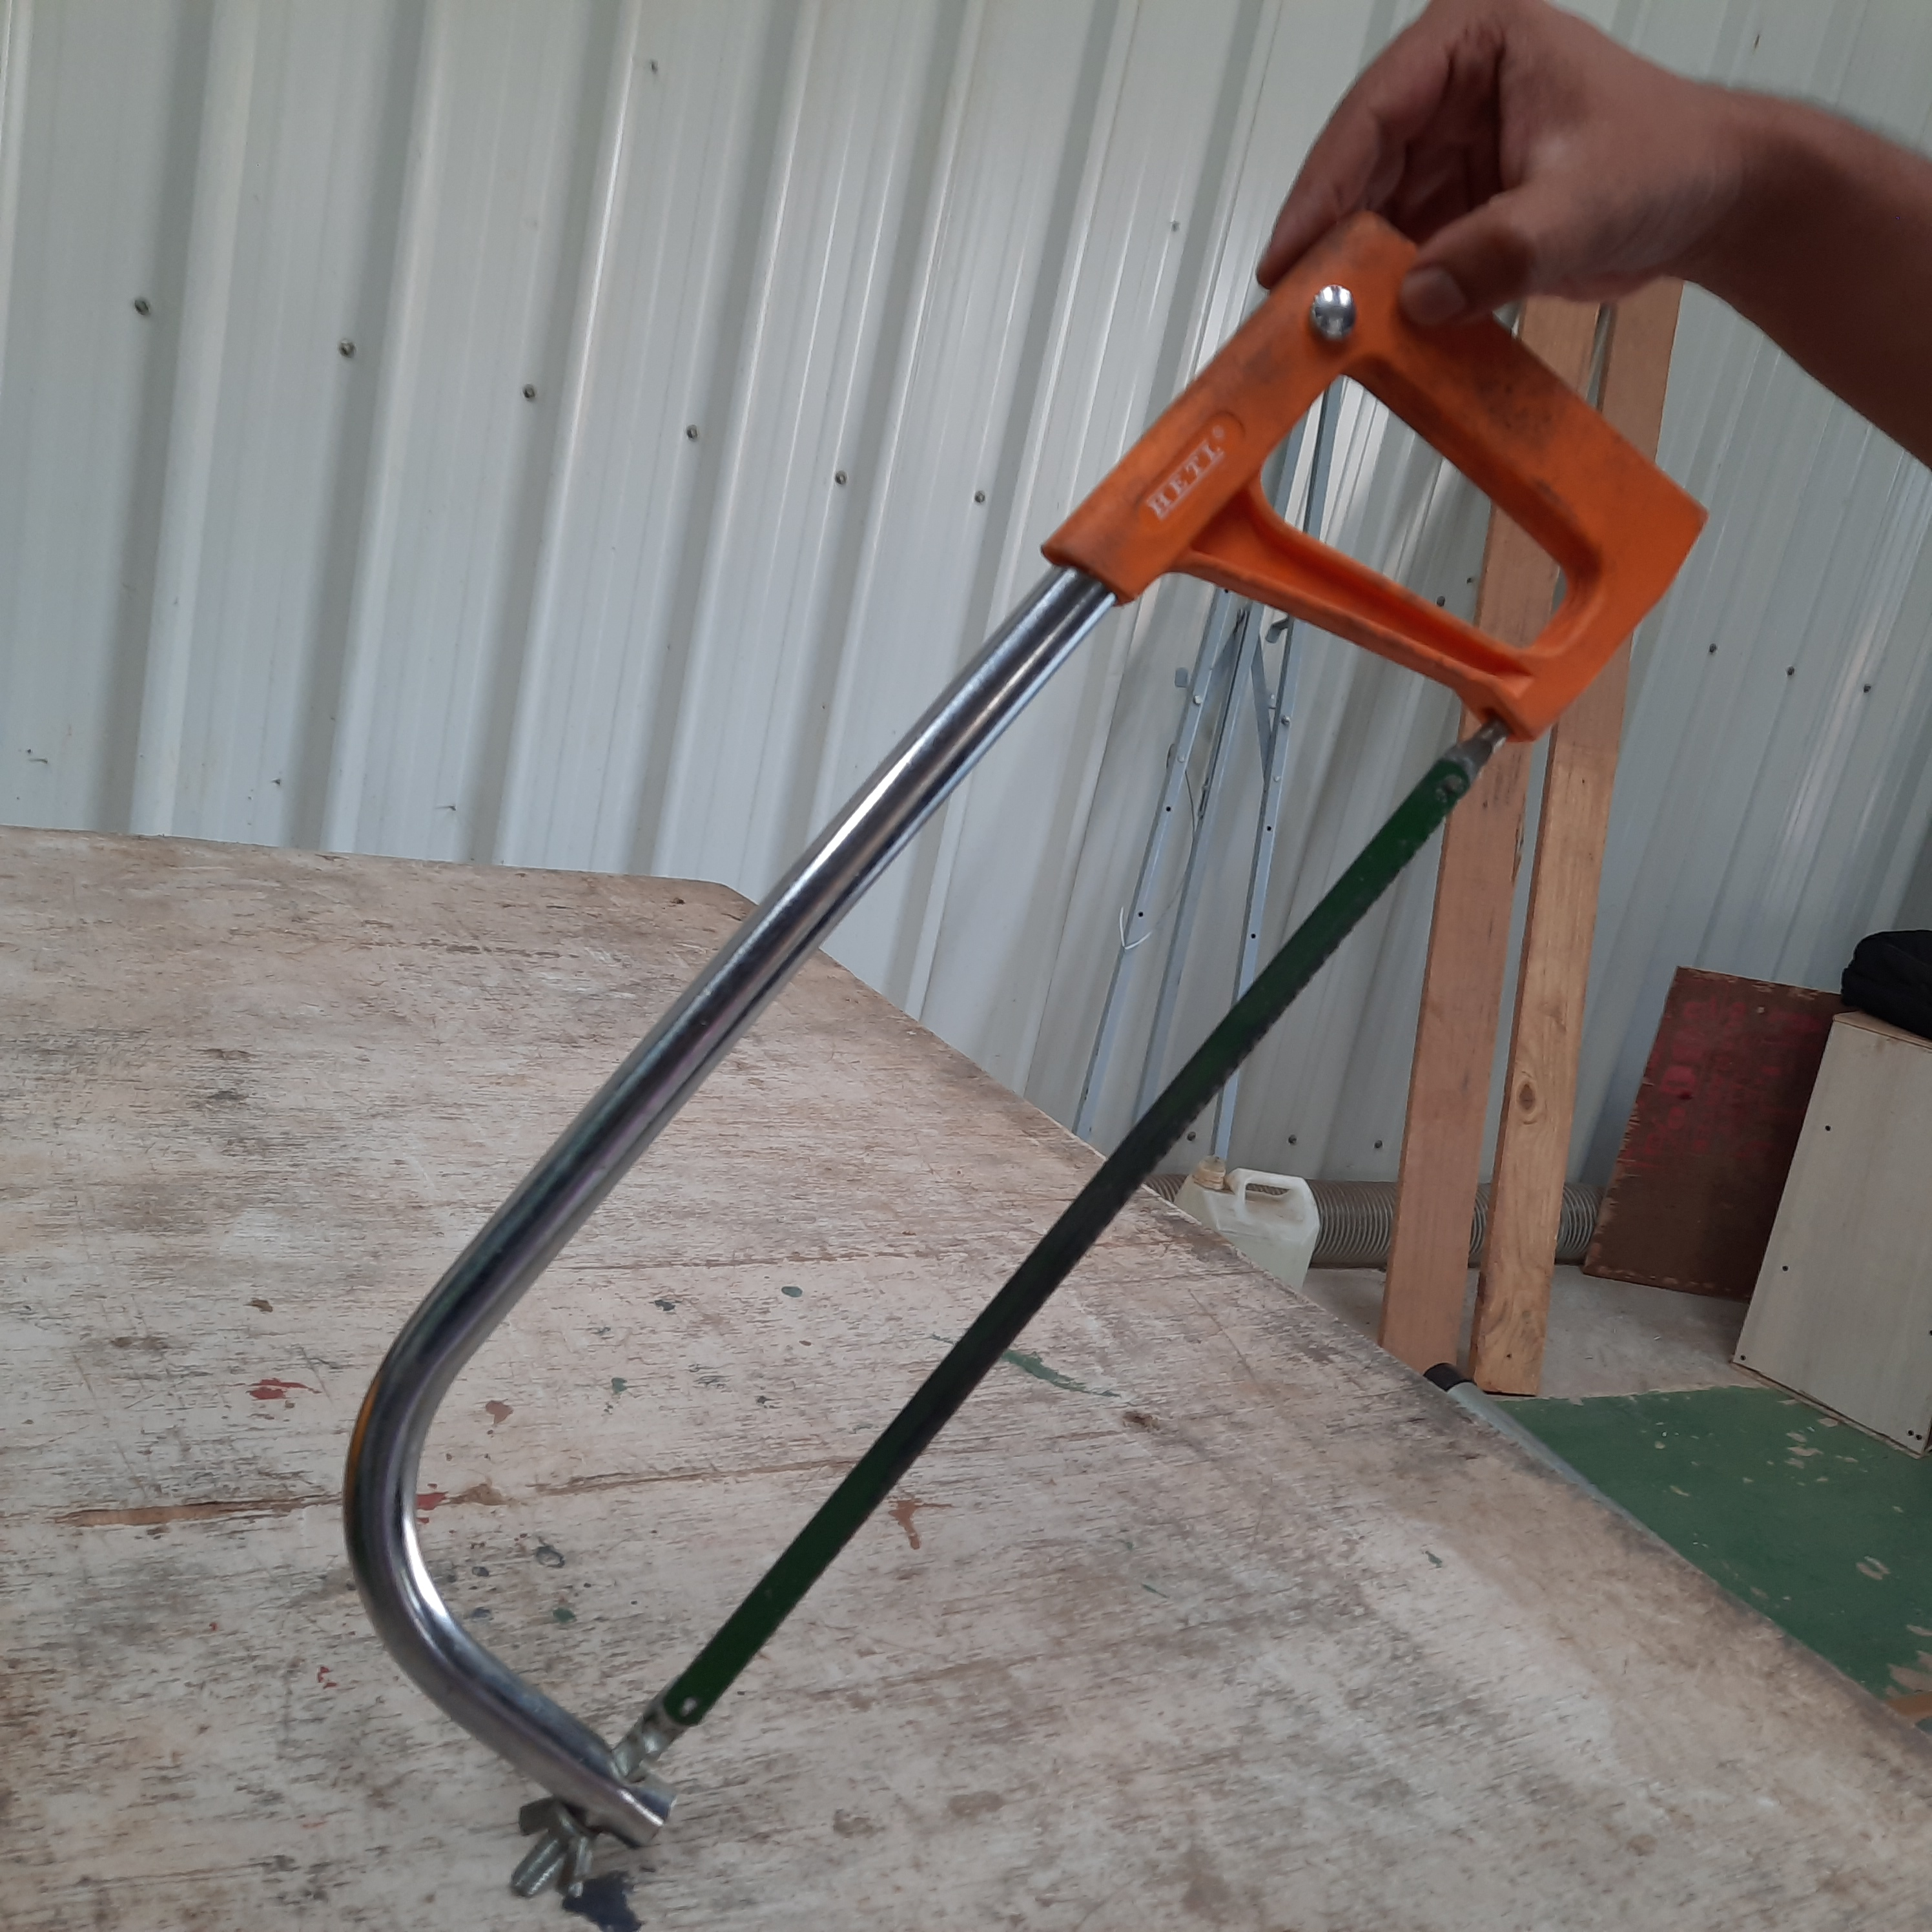Hexaframe: (326, 202, 1720, 1909)
